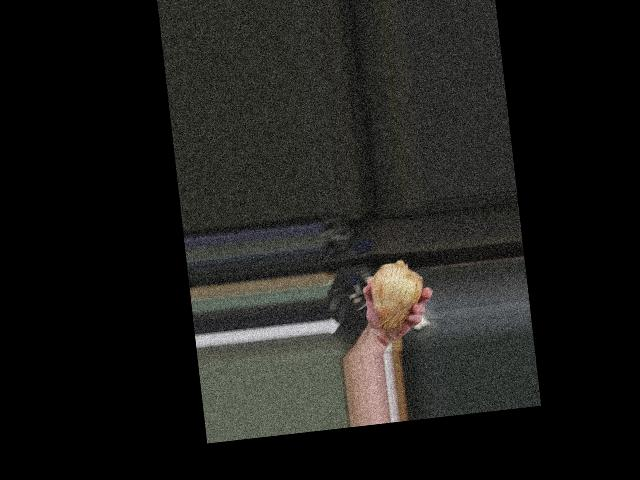onion: (367, 258, 426, 328)
